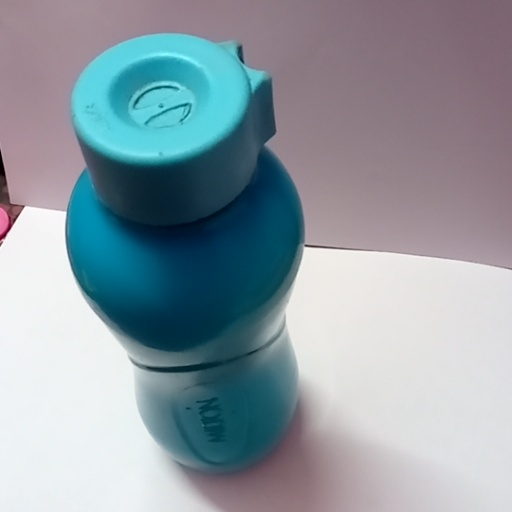bottle: (36, 32, 357, 490)
